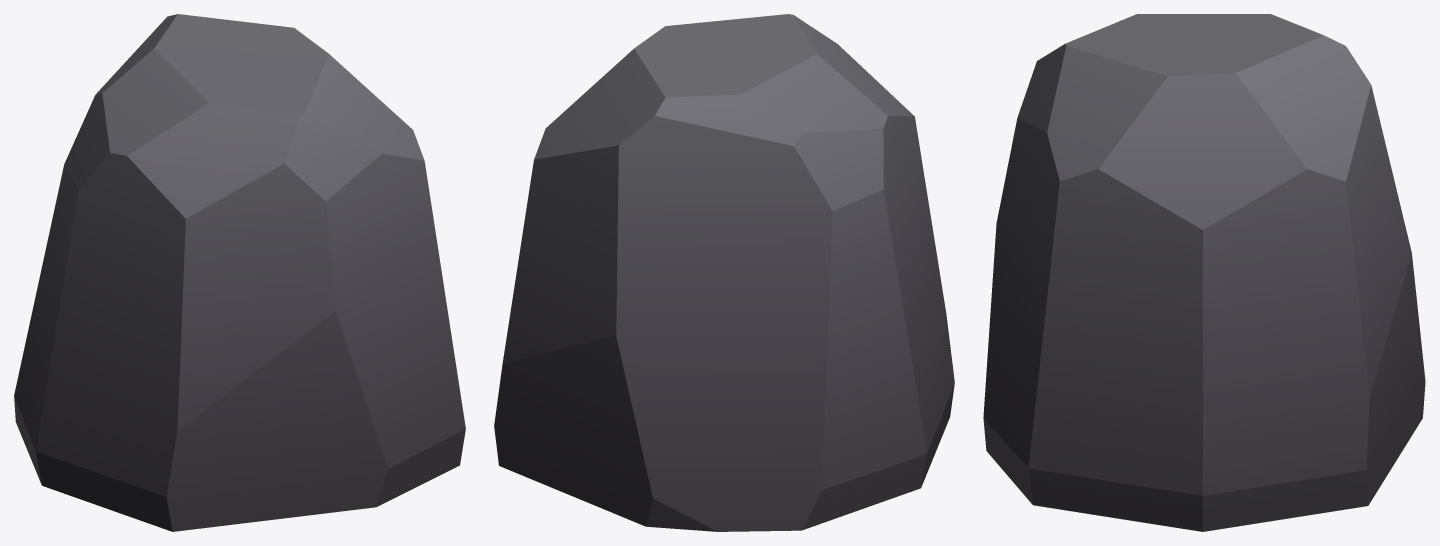
File: Rock_04.glb
3 renders of one model, left to right at view 1: azimuth 30°, elevation 25°; view 2: azimuth 150°, elevation 25°; view 3: azimuth 270°, elevation 25°, orthographic. The views are drawn at different scales.
Visible parts, largest first — view 1: Rock_04_LOD0; view 2: Rock_04_LOD0; view 3: Rock_04_LOD0.
Part boxes in pixels (<box>): Rock_04_LOD0: <box>14,14,465,531</box>; Rock_04_LOD0: <box>494,14,954,531</box>; Rock_04_LOD0: <box>983,14,1425,531</box>.
Size of what is drawn, in the model's own units: 1.41 by 1.29 by 1.3.
Materials: 1 (1 with a texture image).
